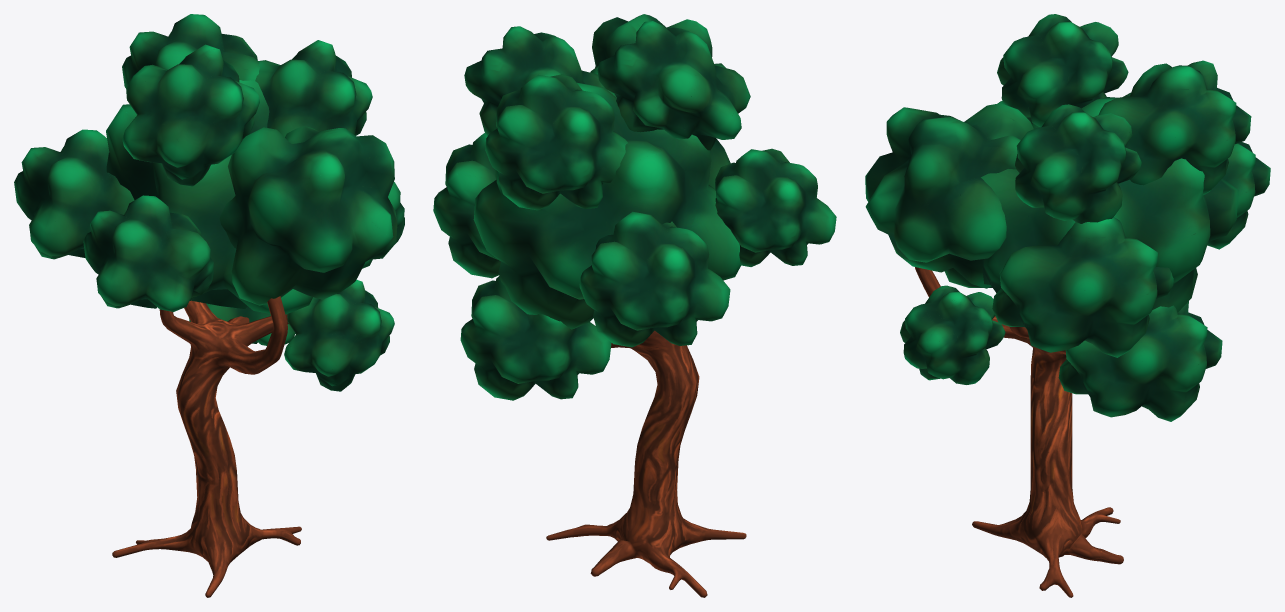
3 renders of one model, left to right at view 1: azimuth 30°, elevation 25°; view 2: azimuth 150°, elevation 25°; view 3: azimuth 270°, elevation 25°, orthographic. The views are drawn at different scales.
Parts seen in each view (by area): view 1: Esfera.016, tronco.001; view 2: Esfera.016, tronco.001; view 3: Esfera.016, tronco.001.
Part boxes in pixels (x1,y1,x2,y2): Esfera.016: [14, 14, 404, 391]; tronco.001: [112, 296, 301, 597]; Esfera.016: [433, 14, 836, 400]; tronco.001: [546, 330, 746, 597]; Esfera.016: [865, 14, 1270, 421]; tronco.001: [915, 267, 1123, 597].
Size of the model in its own units: 4.67 by 6.97 by 4.85.
Materials: 2 (2 with a texture image).
